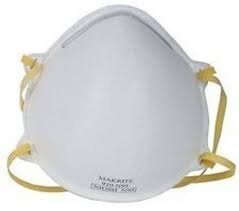flumask: (25, 19, 214, 199)
